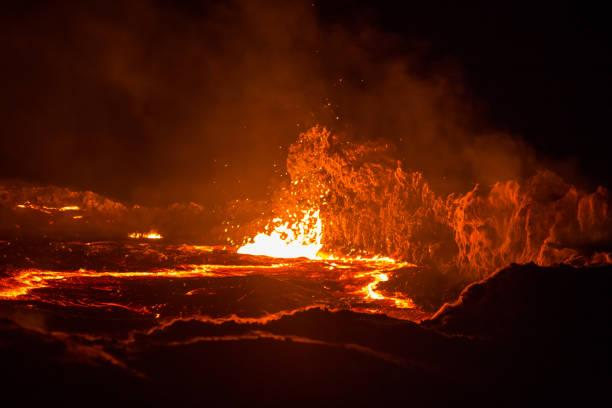Fire: (237, 173, 416, 307)
